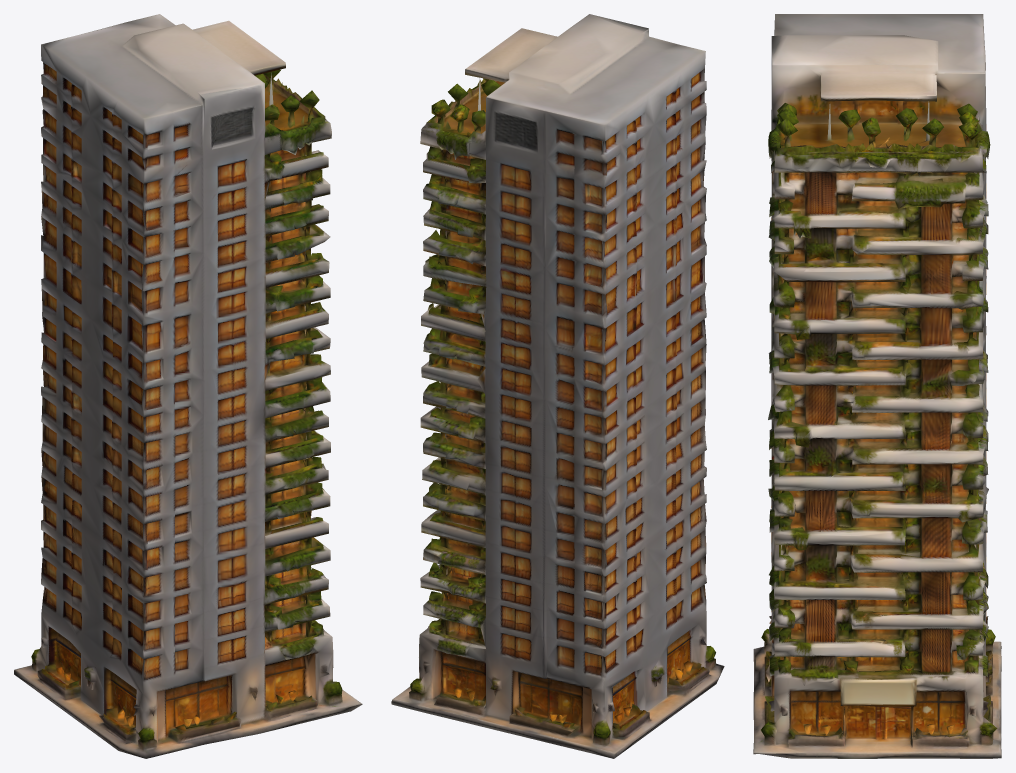
File: green_tower.glb
3 renders of one model, left to right at view 1: azimuth 30°, elevation 25°; view 2: azimuth 150°, elevation 25°; view 3: azimuth 270°, elevation 25°, orthographic. The views are drawn at different scales.
Parts seen in each view (by area): view 1: tripo_node_ea704229-38d2-4ad8-bd2f-a3a38566b155; view 2: tripo_node_ea704229-38d2-4ad8-bd2f-a3a38566b155; view 3: tripo_node_ea704229-38d2-4ad8-bd2f-a3a38566b155.
Boxes of the visible parts, bbox=[...] form: tripo_node_ea704229-38d2-4ad8-bd2f-a3a38566b155: bbox=[14, 14, 362, 758]; tripo_node_ea704229-38d2-4ad8-bd2f-a3a38566b155: bbox=[391, 14, 724, 758]; tripo_node_ea704229-38d2-4ad8-bd2f-a3a38566b155: bbox=[753, 14, 1001, 758].
Bounding box in the file's own units: 0.37 × 1 × 0.3461.
1 material, 1 textured.
